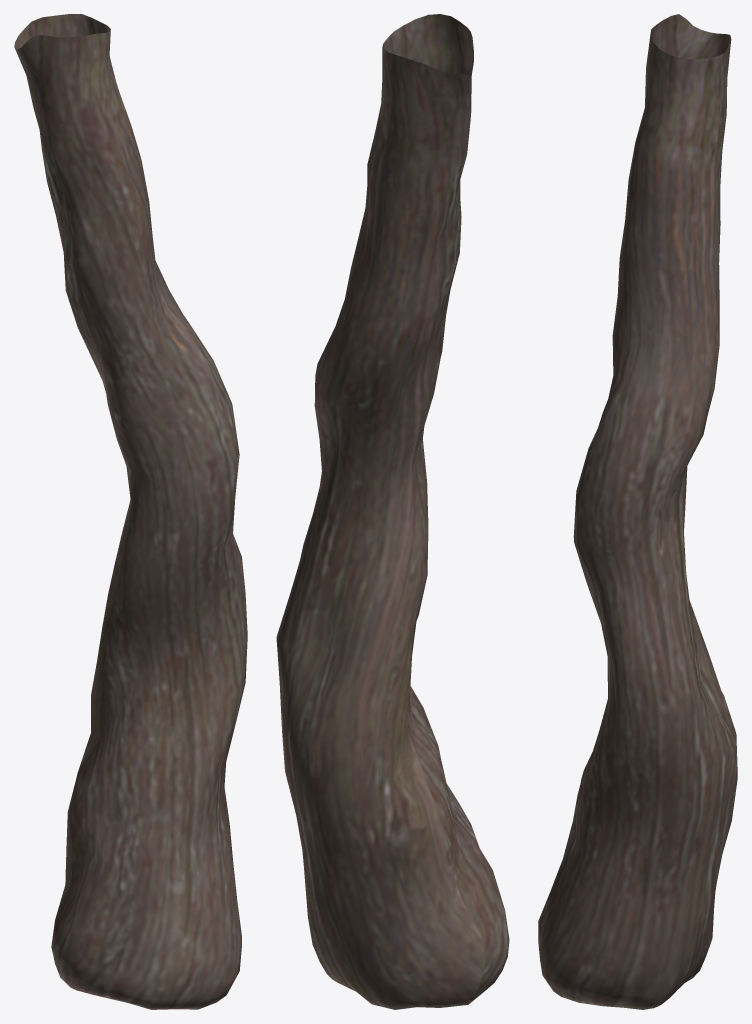
File: SM_Woodlog_01.fbx
The picture shows the model from 3 angles, left to right: view 1: azimuth 30°, elevation 25°; view 2: azimuth 150°, elevation 25°; view 3: azimuth 270°, elevation 25°; orthographic projection. The views are drawn at different scales.
Visible parts, largest first — view 1: SM_Woodlog_01_LOD0; view 2: SM_Woodlog_01_LOD0; view 3: SM_Woodlog_01_LOD0.
Part boxes in pixels (left/top/right/bottom): SM_Woodlog_01_LOD0: left=14, top=14, right=247, bottom=1009; SM_Woodlog_01_LOD0: left=276, top=14, right=509, bottom=1009; SM_Woodlog_01_LOD0: left=538, top=14, right=737, bottom=1009.
Bounding box in the file's own units: 90.07 × 80.22 × 413.
